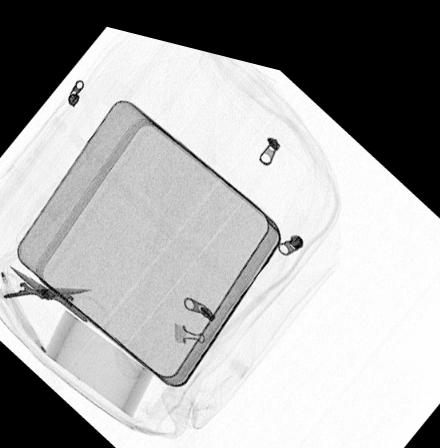Scissors: (0, 261, 114, 326)
